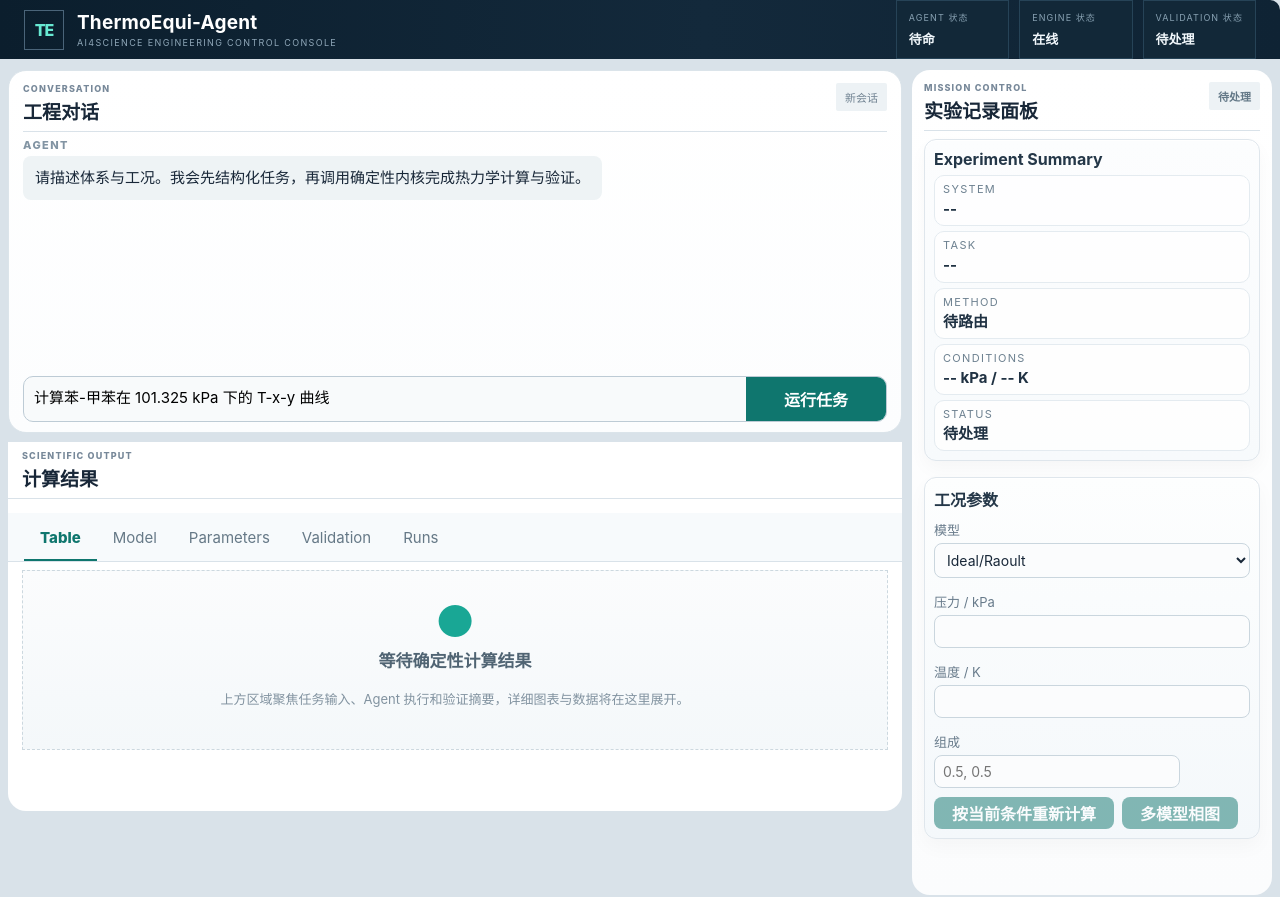
Workbench › runs a multi-model phase diagram and shows per-model status, failure, and warnings
Click the button "运行任务": [816, 399] box [746,377,886,421]
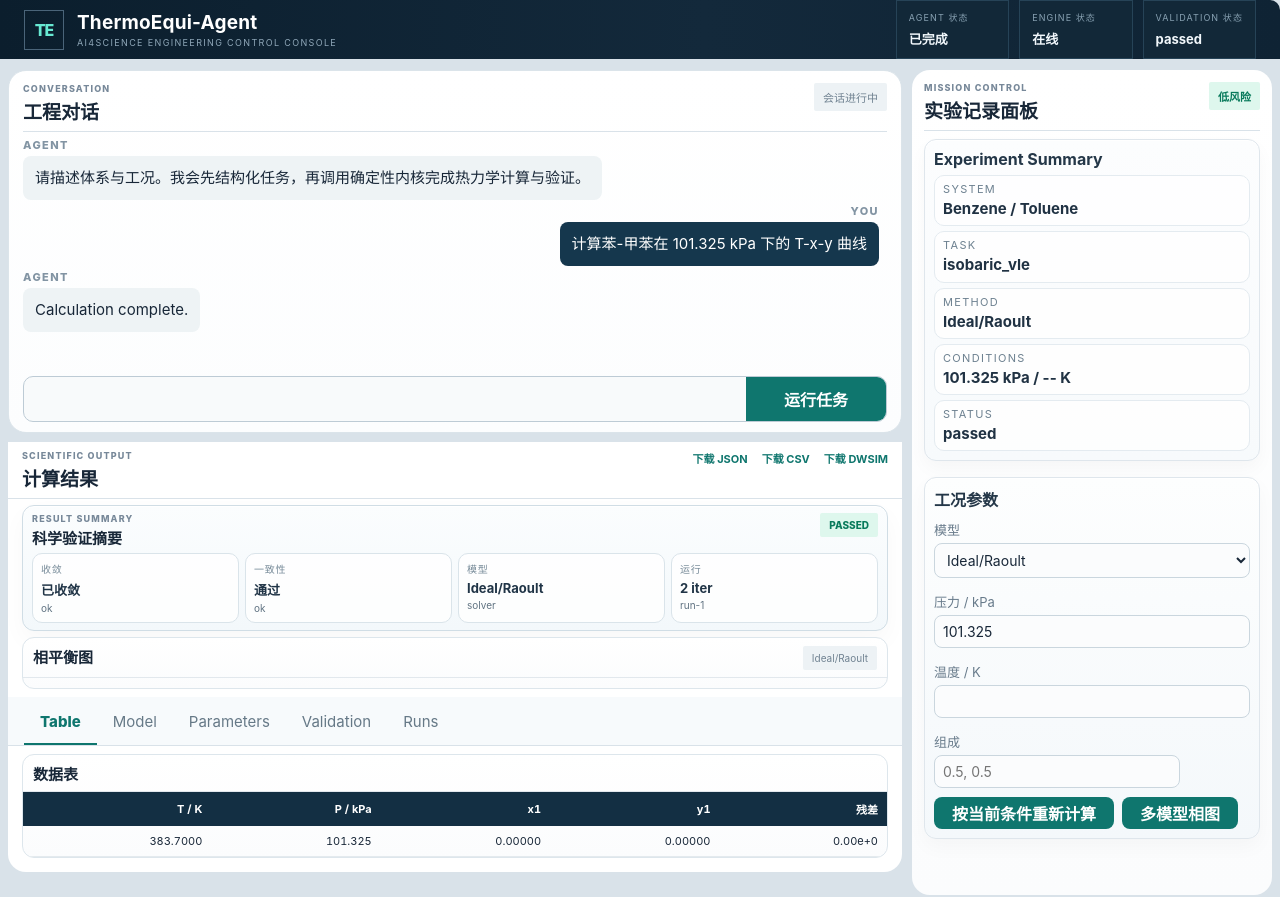
Result: the text "Calculation complete." is shown at [35,298,188,322]
Click the button "多模型相图": [1180, 813] box [1122,797,1238,829]
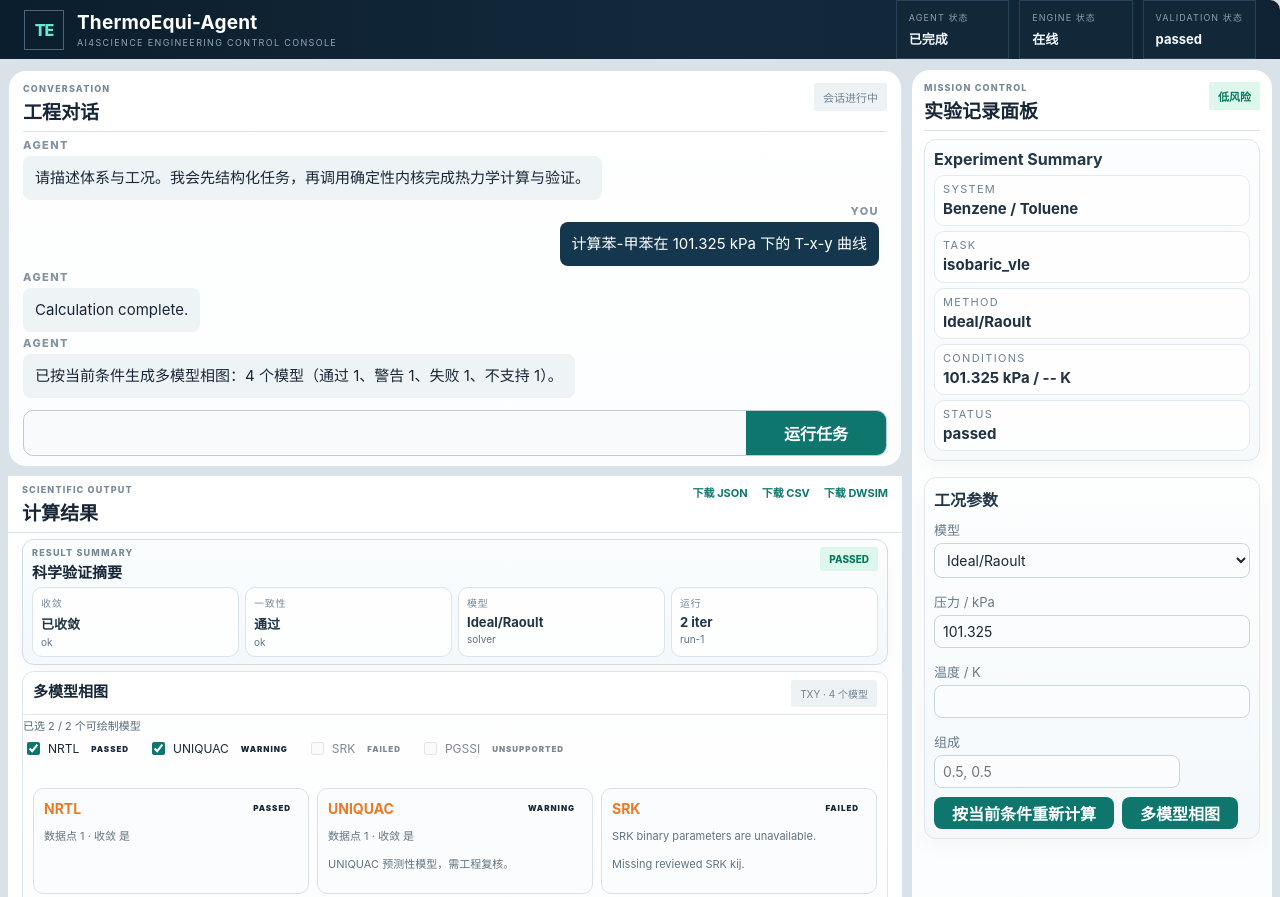
Result: the text "已按当前条件生成多模型相图：4 个模型（通过 1、警告 1、失败 1、不支持 1）。" is shown at [35,364,563,388]
Result: the text "passed" is shown once at [253,803,291,813]
Result: the text "warning" is shown once at [528,803,575,813]
Click the checkbox named "选择 UNIQUAC": [159, 748] box [152,742,165,755]
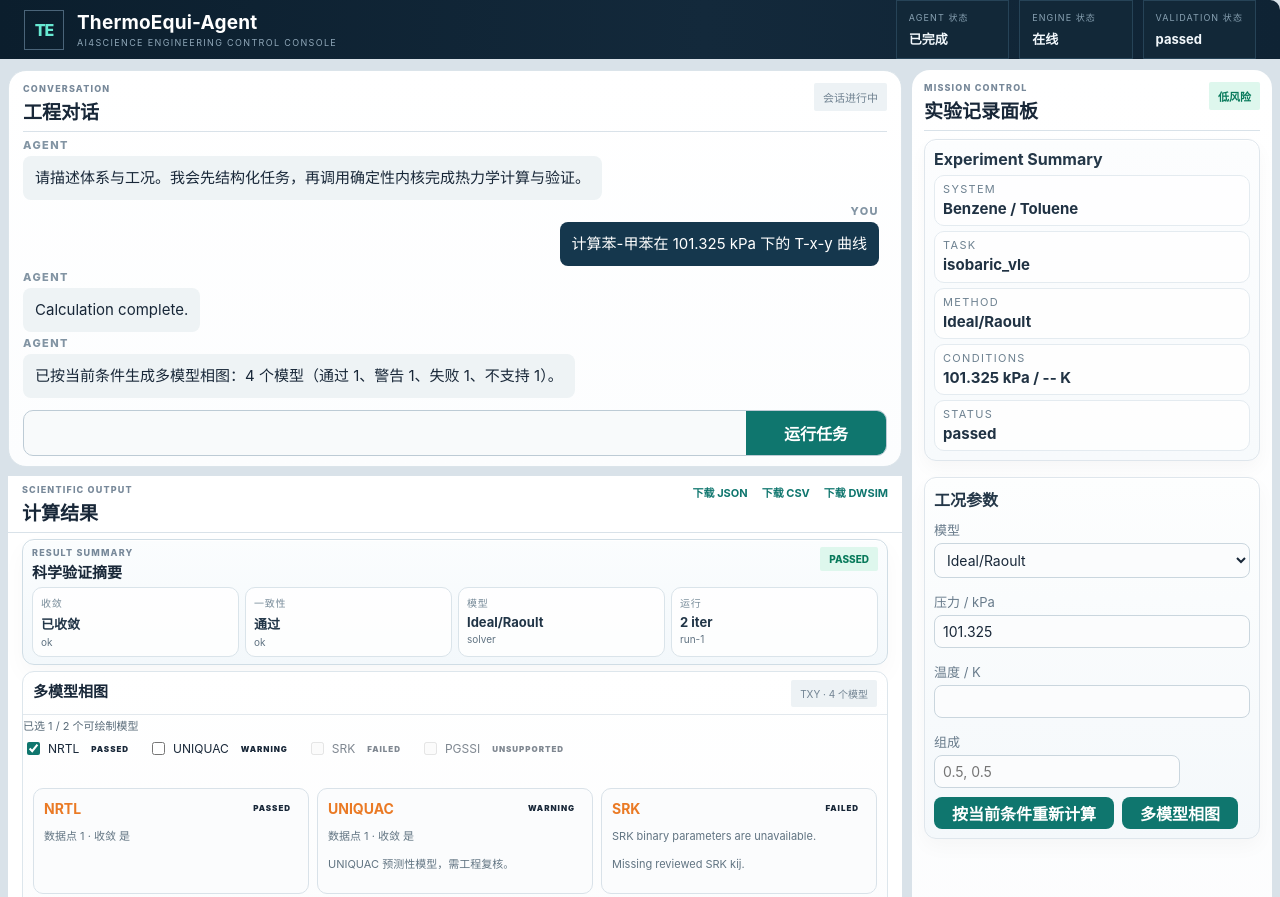
Expected: the text "请至少选择一个模型以显示相图曲线。" is not shown
Result: the text with test id "phase-diagram-selection-count" reads "已选 1 / 2 个可绘制模型" at [23,719,138,733]
Click the checkbox named "选择 NRTL": [34, 748] box [27,742,40,755]
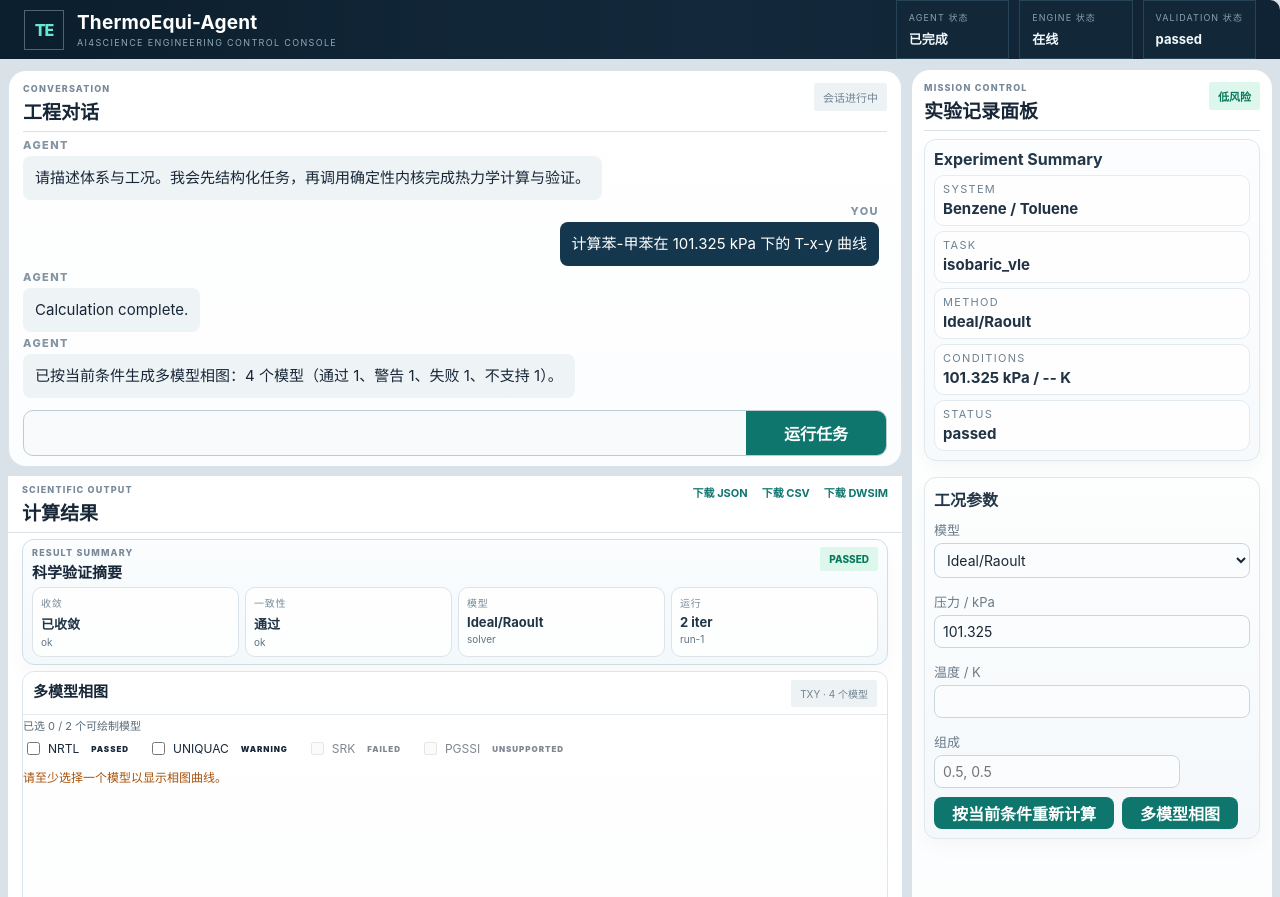
Result: the text "请至少选择一个模型以显示相图曲线。" is shown at [23,770,227,785]
